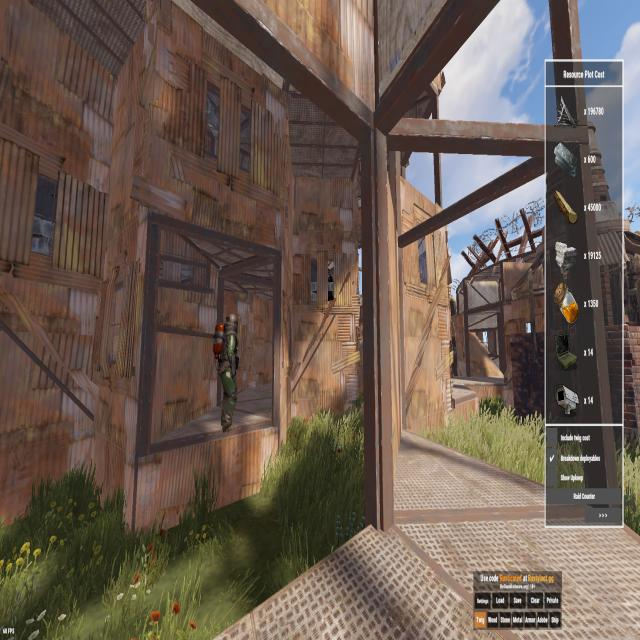Player: (210, 309, 242, 437), (327, 266, 334, 301)
